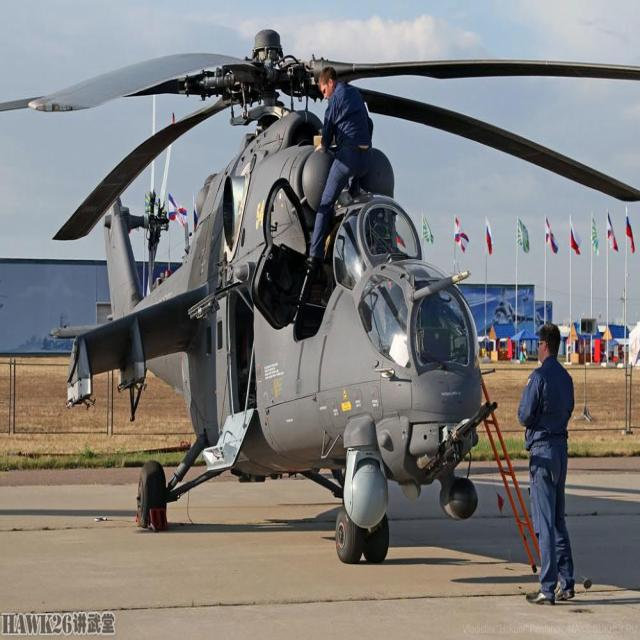MIL_HELO: (14, 25, 640, 564)
